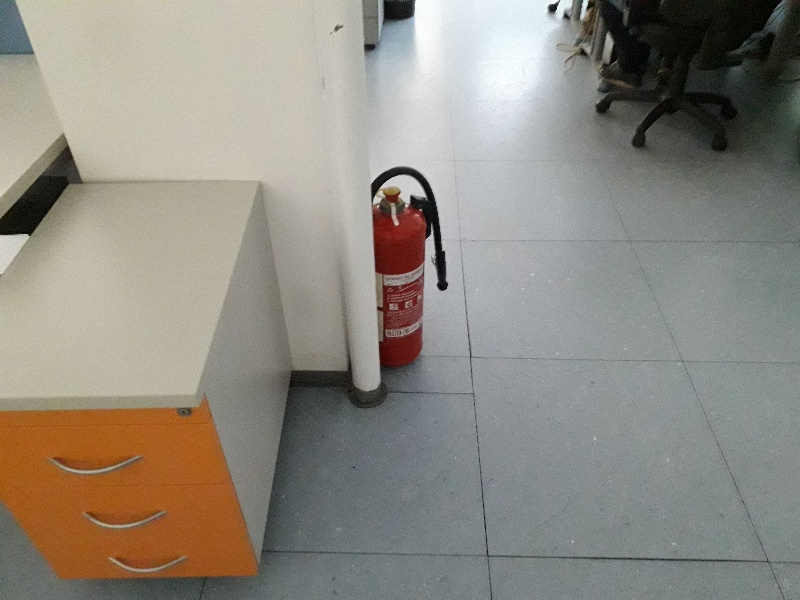vataparat: (372, 167, 447, 372)
